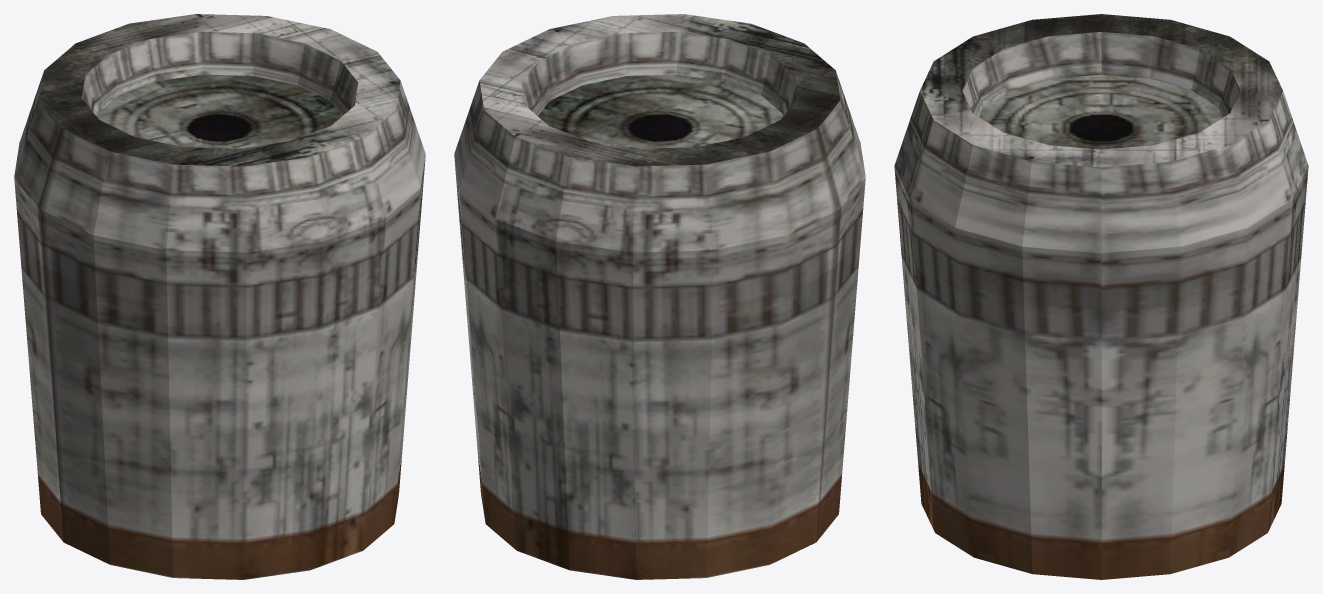
Rendered from thm_tato_lucky_despot_debris_sm_engine_l0.fbx.
The picture shows the model from 3 angles, left to right: view 1: azimuth 30°, elevation 25°; view 2: azimuth 150°, elevation 25°; view 3: azimuth 270°, elevation 25°; orthographic projection.
Parts seen in each view (by area): view 1: mesh_node; view 2: mesh_node; view 3: mesh_node.
Part boxes in pixels (<box>): mesh_node: <box>14,14,425,579</box>; mesh_node: <box>454,14,865,579</box>; mesh_node: <box>894,14,1308,579</box>.
Bounding box in the file's own units: 10 × 12 × 10.
